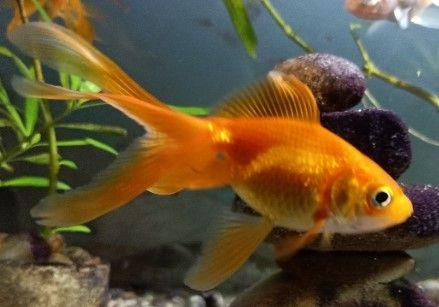Gold Fish: (13, 21, 413, 288)
